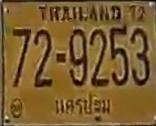2: (89, 28, 110, 87), (34, 29, 54, 87)
3: (130, 27, 149, 85)
5: (110, 26, 129, 86)
7: (12, 28, 32, 87)
9: (69, 29, 88, 86)
NPT: (52, 93, 113, 122)
